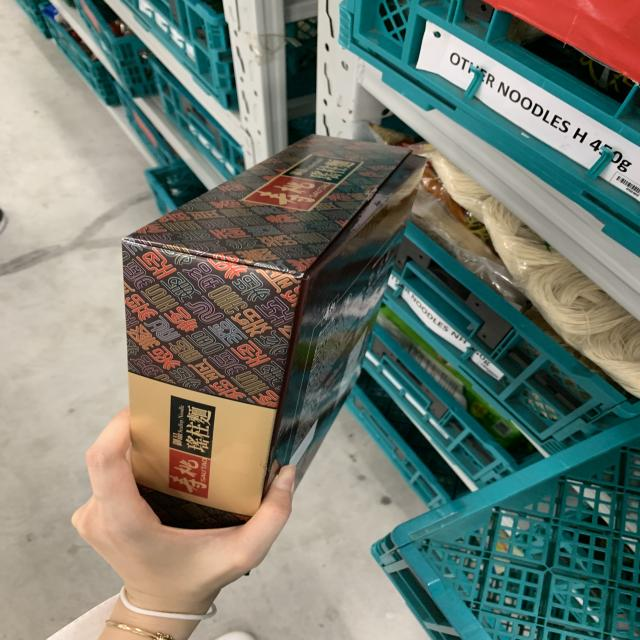object_name: (127, 162, 406, 514)
